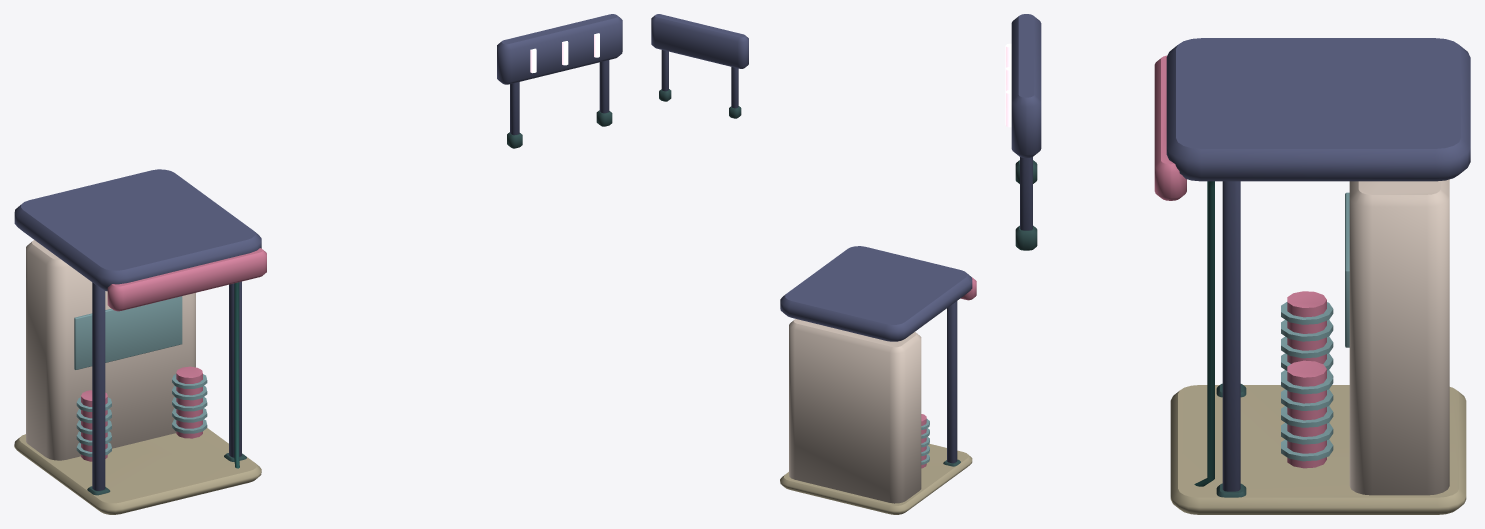
The model's file is japan_wash_4.glb.
The picture shows the model from 3 angles, left to right: view 1: azimuth 30°, elevation 25°; view 2: azimuth 150°, elevation 25°; view 3: azimuth 270°, elevation 25°; orthographic projection. The views are drawn at different scales.
Parts seen in each view (by area): view 1: JapanWash4; view 2: JapanWash4; view 3: JapanWash4.
Boxes of the visible parts, x1,y1,x2,y2 form: JapanWash4: (14,14,622,514); JapanWash4: (651,14,976,514); JapanWash4: (1005,14,1470,514).
Size of the model in its own units: 6.77 by 5.92 by 3.9.
